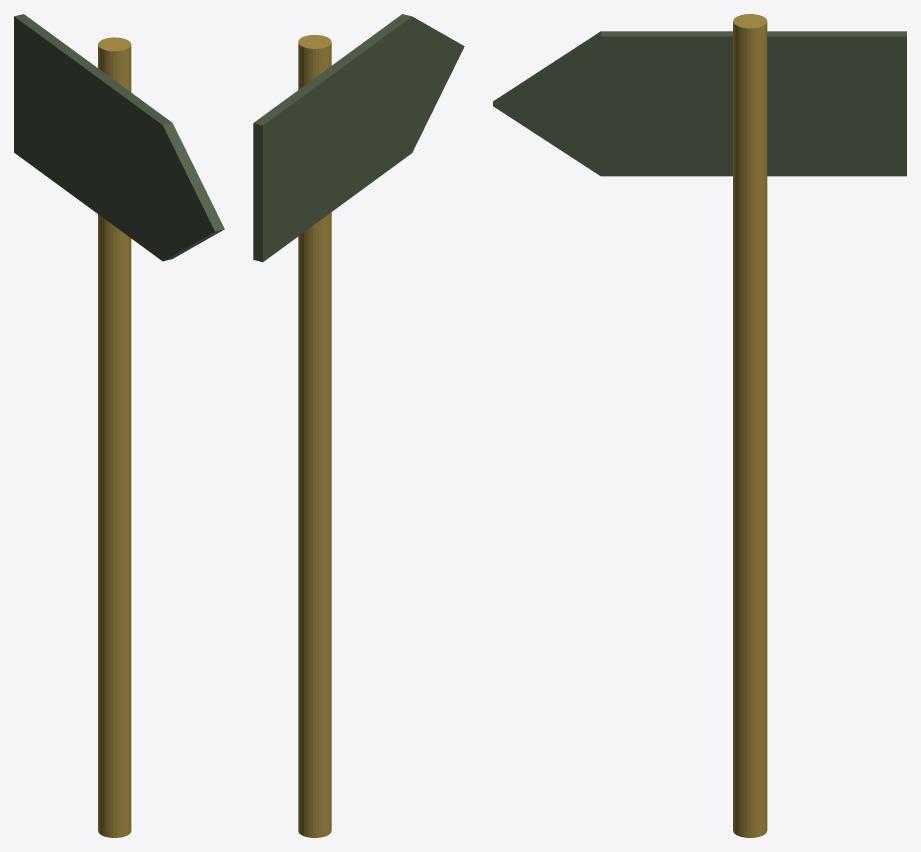
Rendered from placa.fbx.
The picture shows the model from 3 angles, left to right: view 1: azimuth 30°, elevation 25°; view 2: azimuth 150°, elevation 25°; view 3: azimuth 270°, elevation 25°; orthographic projection. The views are drawn at different scales.
Parts seen in each view (by area): view 1: Cube; view 2: Cube; view 3: Cube.
Boxes of the visible parts, x1,y1,x2,y2 form: Cube: [14, 14, 224, 837]; Cube: [253, 14, 464, 837]; Cube: [493, 14, 906, 837].
Size of the model in its own units: 15.79 by 305 by 141.
